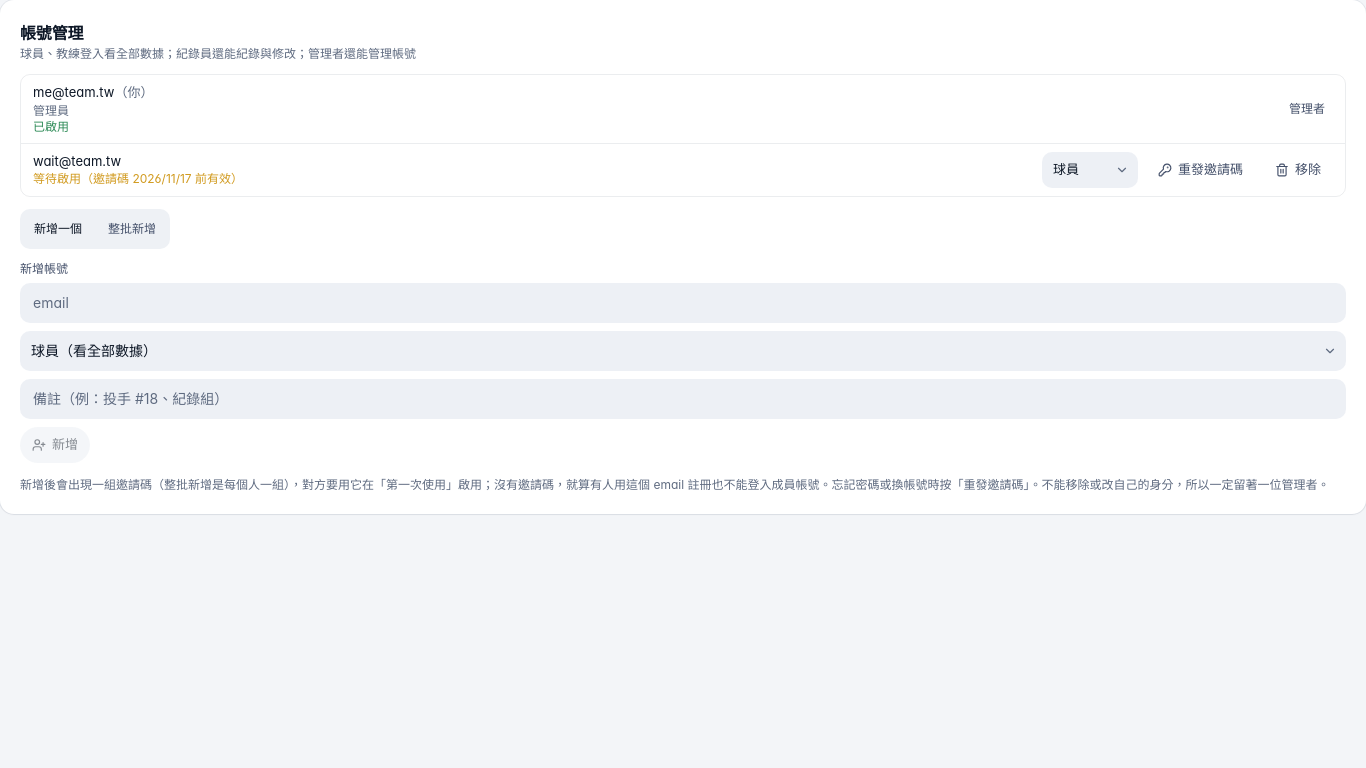
it: 帳號管理 with 邀請碼 and roles › adding someone shows their one-time 邀請碼
Type "new@team.tw" into the field named "新帳號 email".
click(683, 302); type("new@team.tw")  # box [20,282,1346,322]
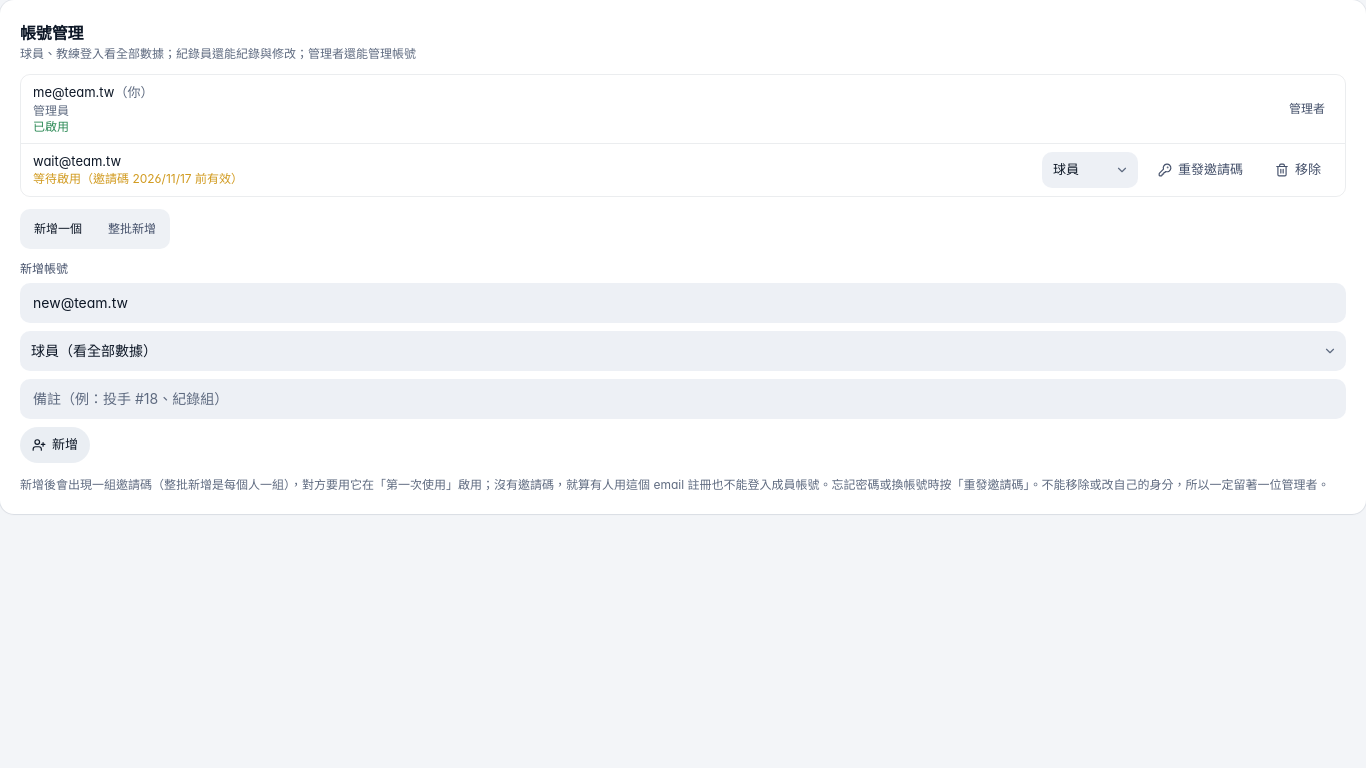
Click the button "新增".
click(55, 444)  # box [20,426,90,462]
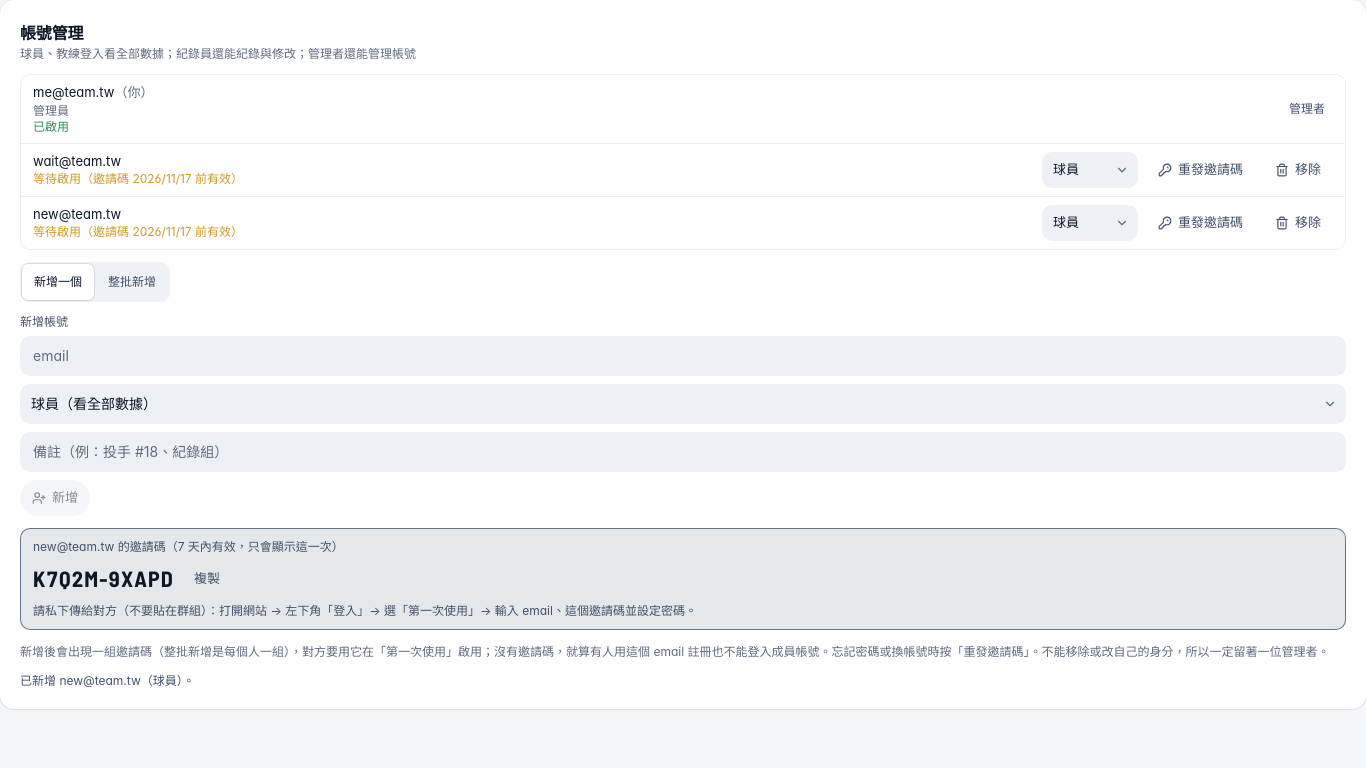
Expected: the text "K7Q2M-9XAPD" is shown, [33,562,174,595]
Expected: the text "new@team.tw 的邀請碼（7 天內有效，只會顯示這一次）" is shown, [33,538,344,554]
